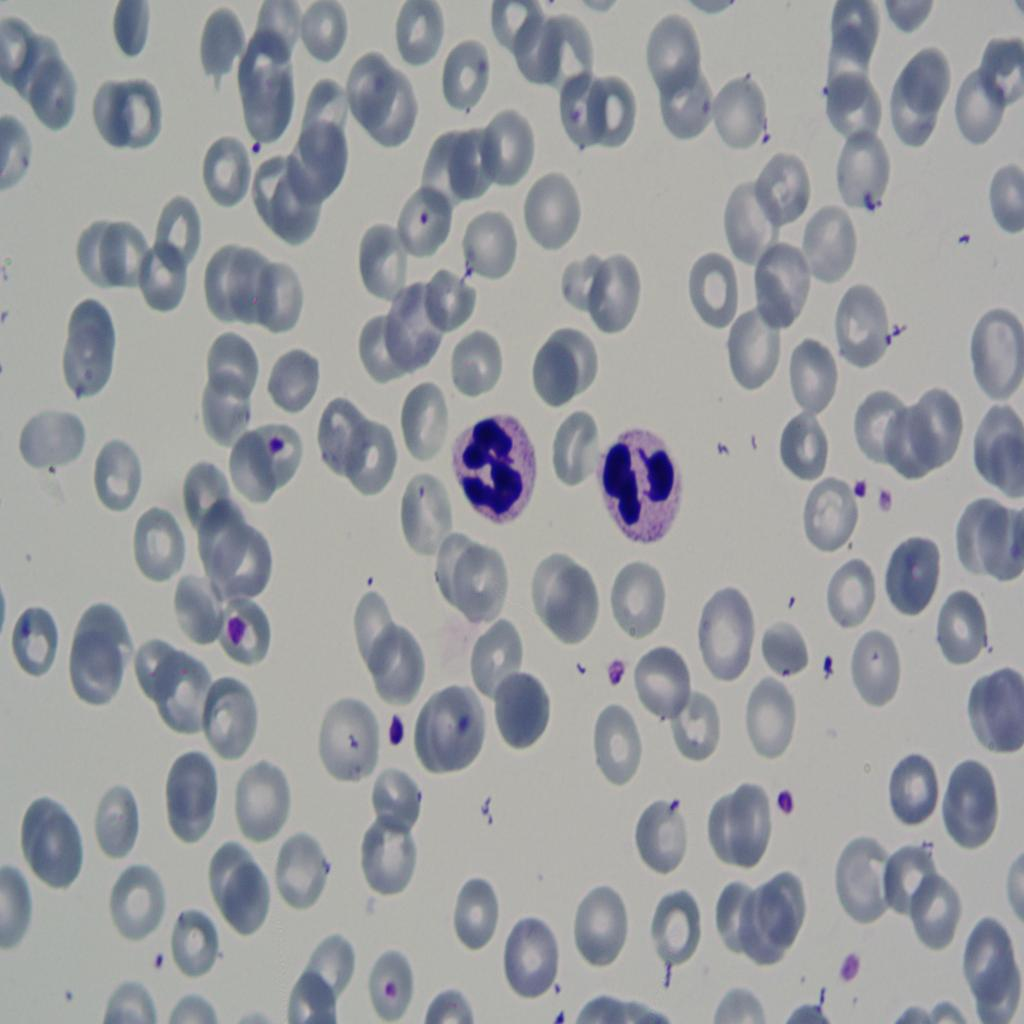Neutrofil: (446, 390, 543, 540), (600, 428, 688, 559)
Platelet: (379, 696, 414, 760), (830, 945, 866, 995), (772, 778, 806, 830), (812, 638, 841, 697), (222, 600, 254, 644), (408, 203, 442, 243), (607, 646, 633, 690), (873, 480, 897, 523), (261, 426, 290, 461), (846, 469, 870, 510), (249, 129, 265, 166)
